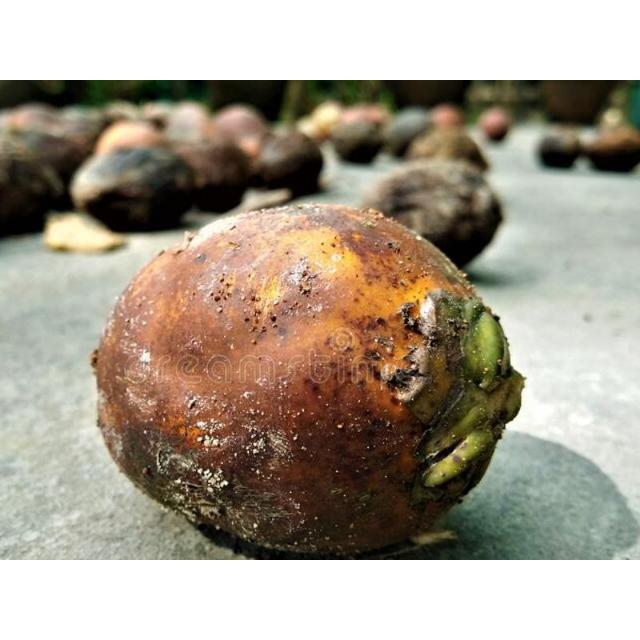damaged: (93, 205, 526, 559)
